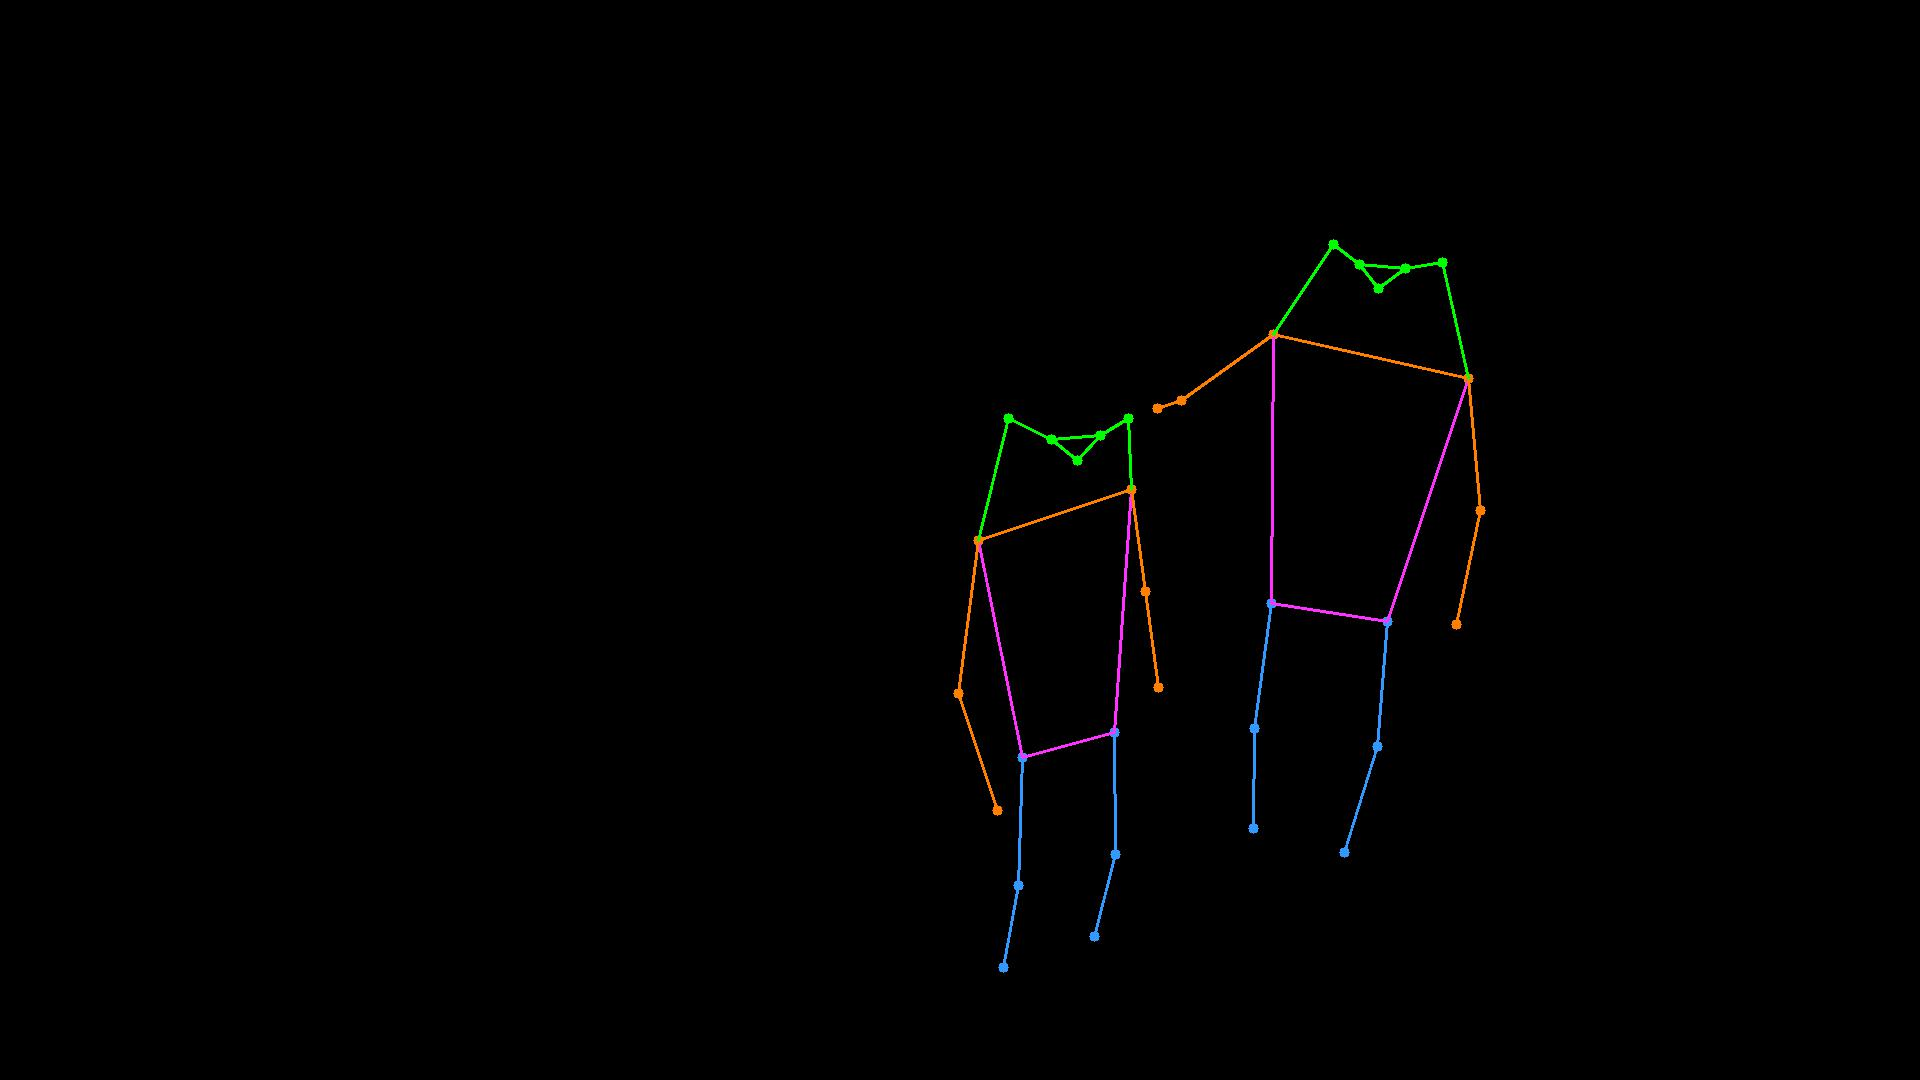normal: (905, 222, 1531, 988)
